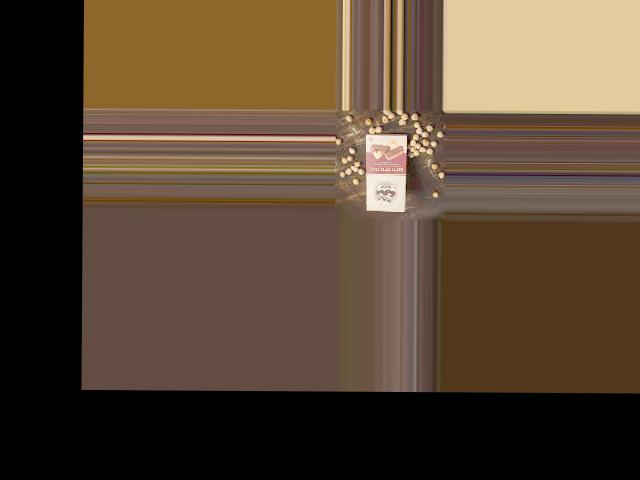chocolate: (363, 132, 411, 213)
